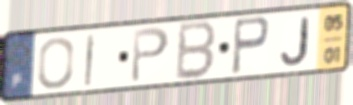B: (173, 19, 219, 82)
I: (82, 32, 98, 89)
J: (279, 15, 312, 67)
O: (36, 35, 77, 92)
P: (229, 14, 272, 77), (129, 25, 172, 86)
